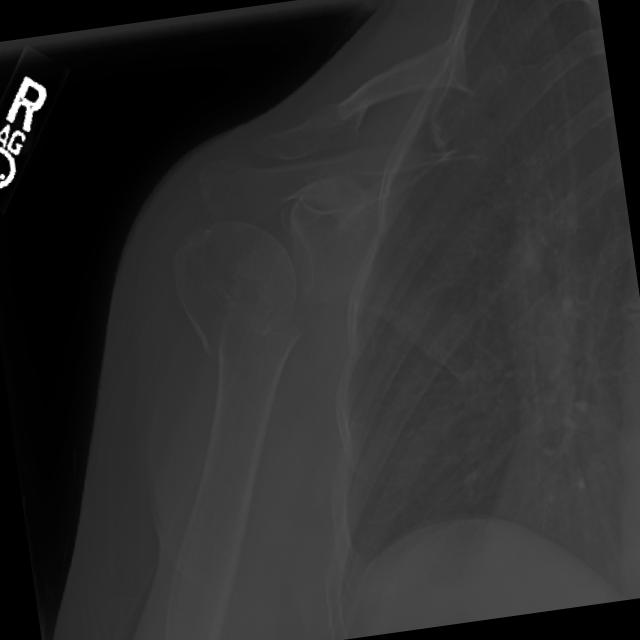shoulder fracture: (150, 256, 338, 410)
